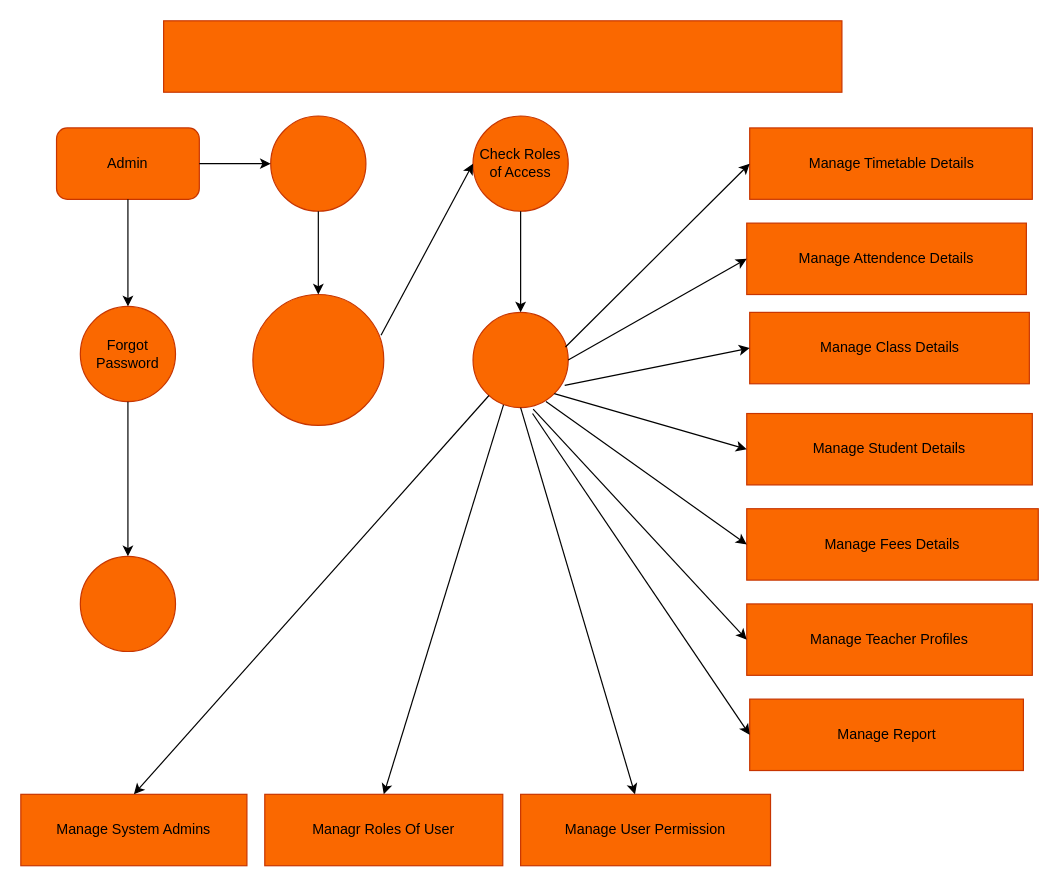
Some shapes in this 1059 by 887 pixel diagram are drawn without their labels. Each missing label, with the centre of its shape:
Check Credentials: the point at 318,359
Login to System: the point at 318,163
Manage Modules: the point at 520,359
Send Email to User: the point at 127,603
Student Information System: the point at 502,56
